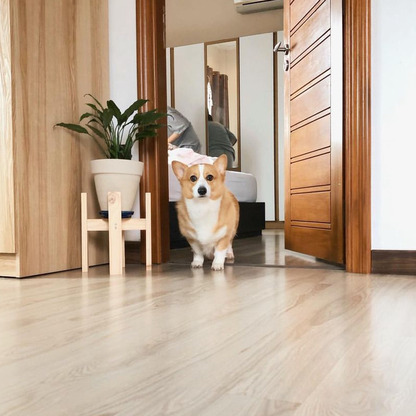Corgi: (158, 148, 258, 284)
